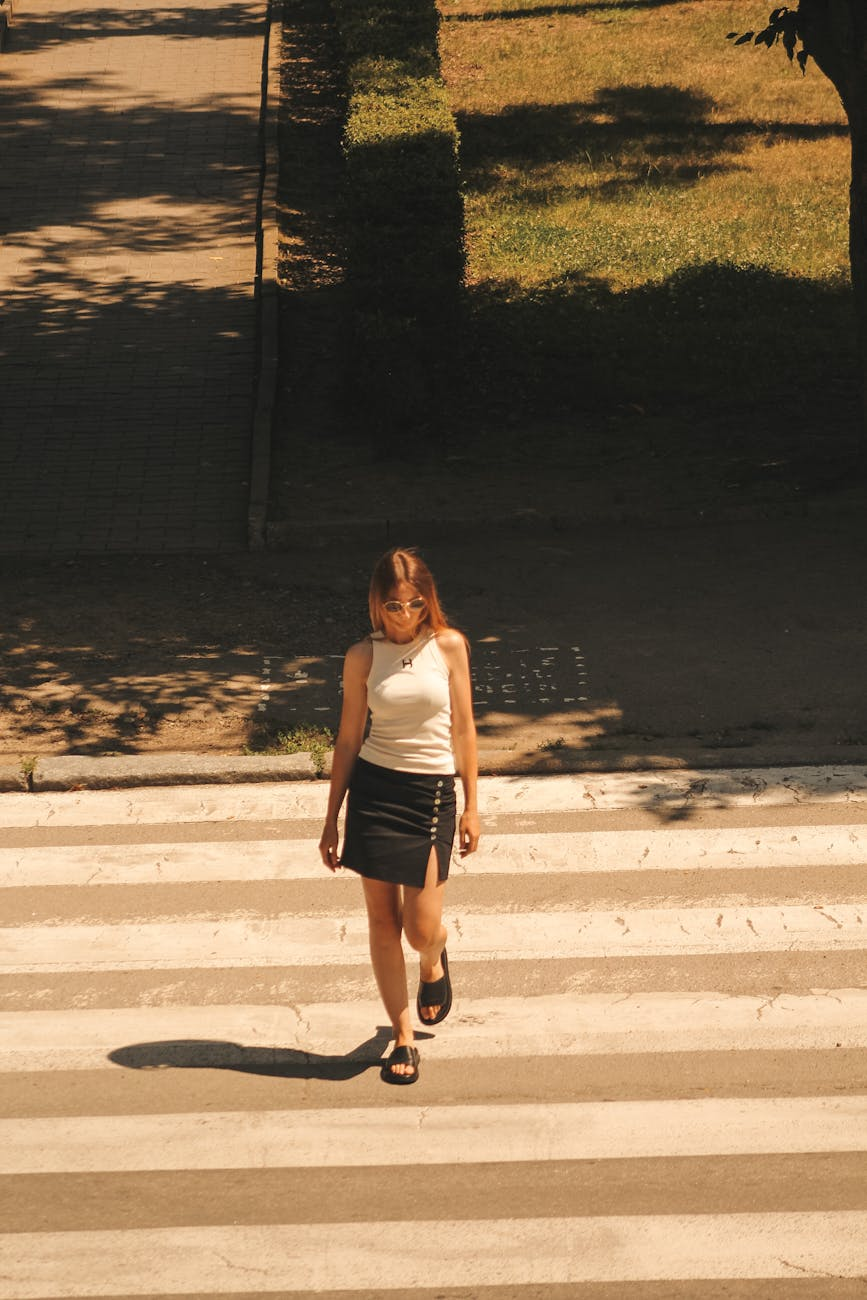opened_foot: (409, 948, 458, 1026), (372, 1035, 426, 1086)
short_medium_skirt: (328, 762, 468, 887)
sleeveless_top: (348, 640, 465, 772)
